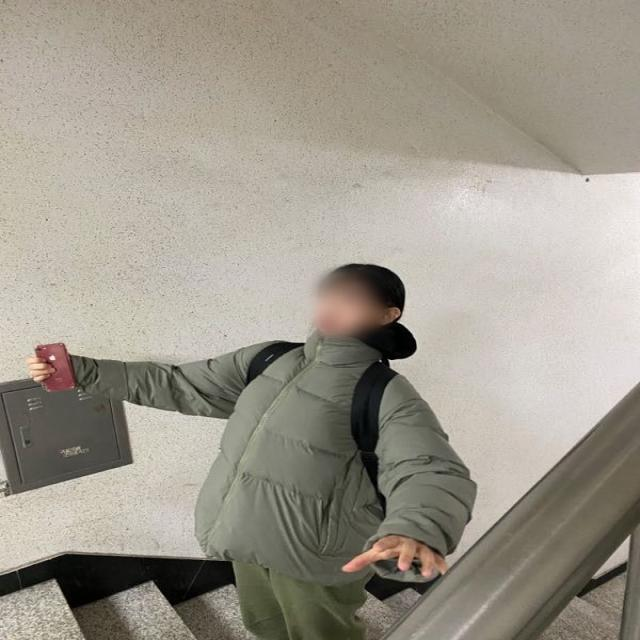cottonpants: (224, 550, 373, 640)
padding: (62, 332, 474, 588)
